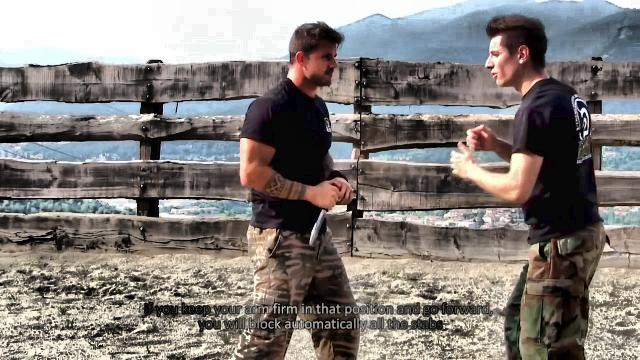knife: (303, 184, 337, 250)
